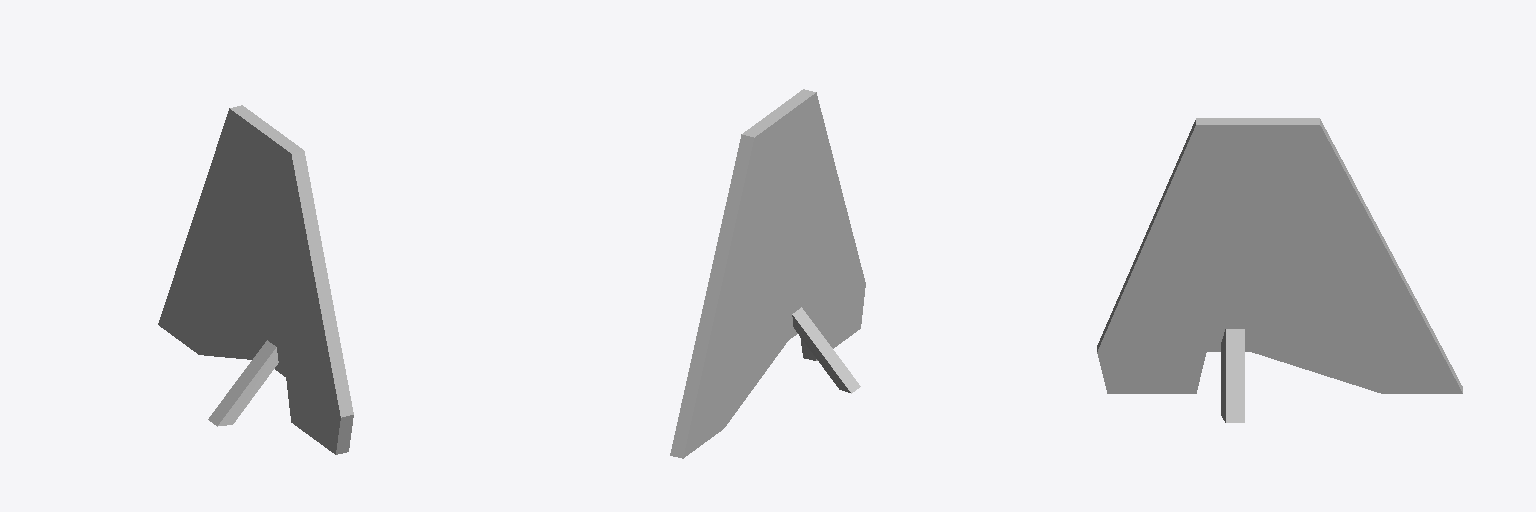
The model's file is Fin02.obj.
3 views of the same model, side by side, from view 1: azimuth 30°, elevation 25°; view 2: azimuth 150°, elevation 25°; view 3: azimuth 270°, elevation 25° (orthographic).
Visible parts, largest first — view 1: Fin02_Cube.001; view 2: Fin02_Cube.001; view 3: Fin02_Cube.001.
Part boxes in pixels (x1,y1,x2,y2): Fin02_Cube.001: (158,105,353,454); Fin02_Cube.001: (670,89,865,458); Fin02_Cube.001: (1097,118,1462,422).
Bounding box in the file's own units: 1.94 × 3.78 × 4.66.